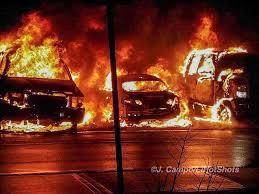fire: (82, 72, 248, 123), (8, 32, 60, 79), (6, 115, 77, 133)
